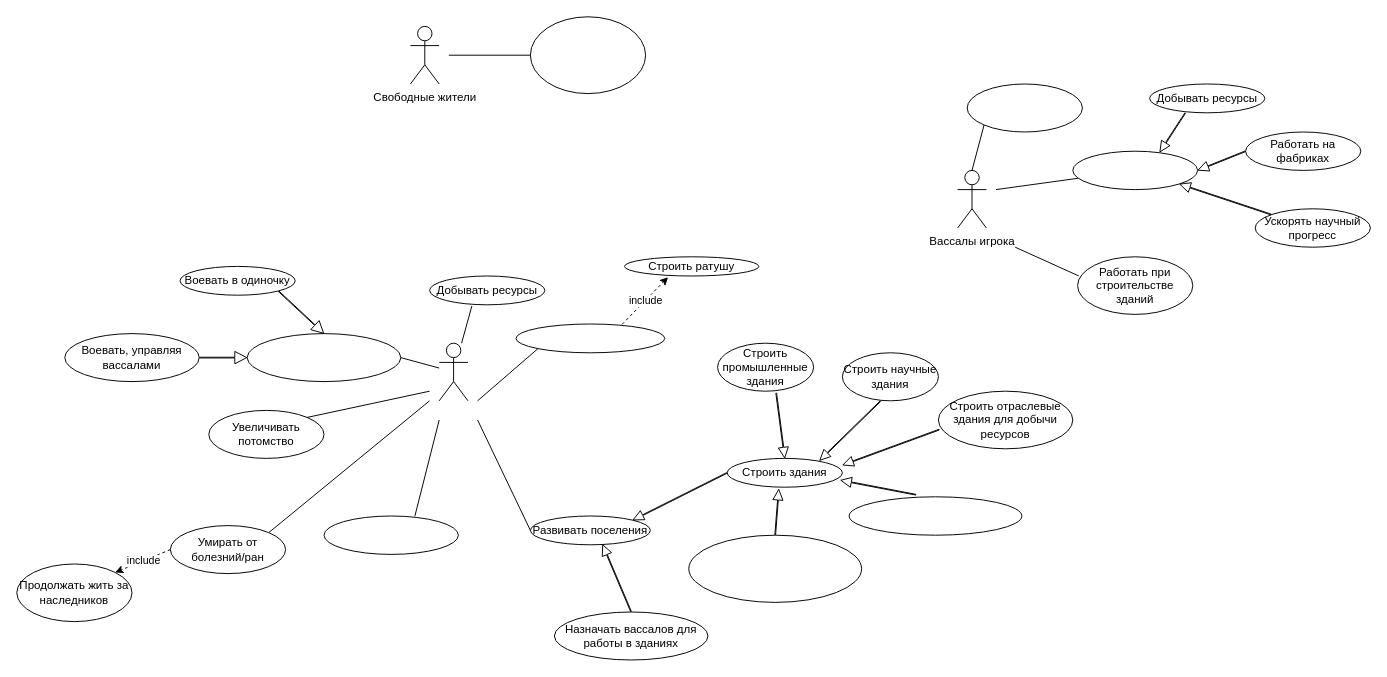
Some shapes in this 1387 by 677 pixel diagram are drawn without their labels. Each missing label, with the box of its shape:
Воевать за своего господина: (966, 83, 1082, 132)
Воевать с вассалами игрока и самим игроком: (529, 16, 646, 94)
Воевать со свободными жителями: (246, 333, 401, 382)
Игрок: (438, 342, 468, 401)
Изучать технологии: (323, 515, 458, 554)
Основывать поселения: (515, 323, 665, 353)
Работать в зданиях: (1072, 150, 1198, 190)
Строить оборонительные здания: (848, 496, 1022, 535)
Строить общественные здания (больницы, например): (688, 534, 862, 602)
